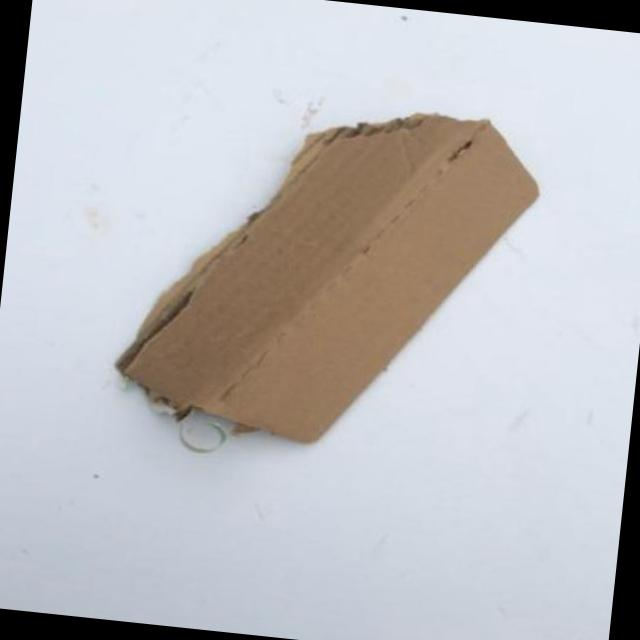cardboard paper: (122, 112, 540, 440)
